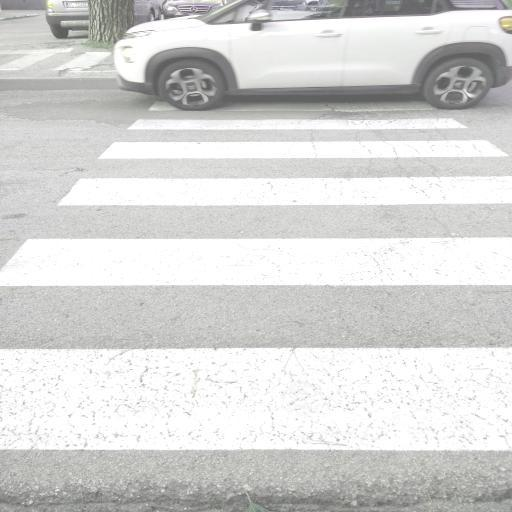crosswalk: (1, 230, 512, 465), (51, 134, 512, 213)
